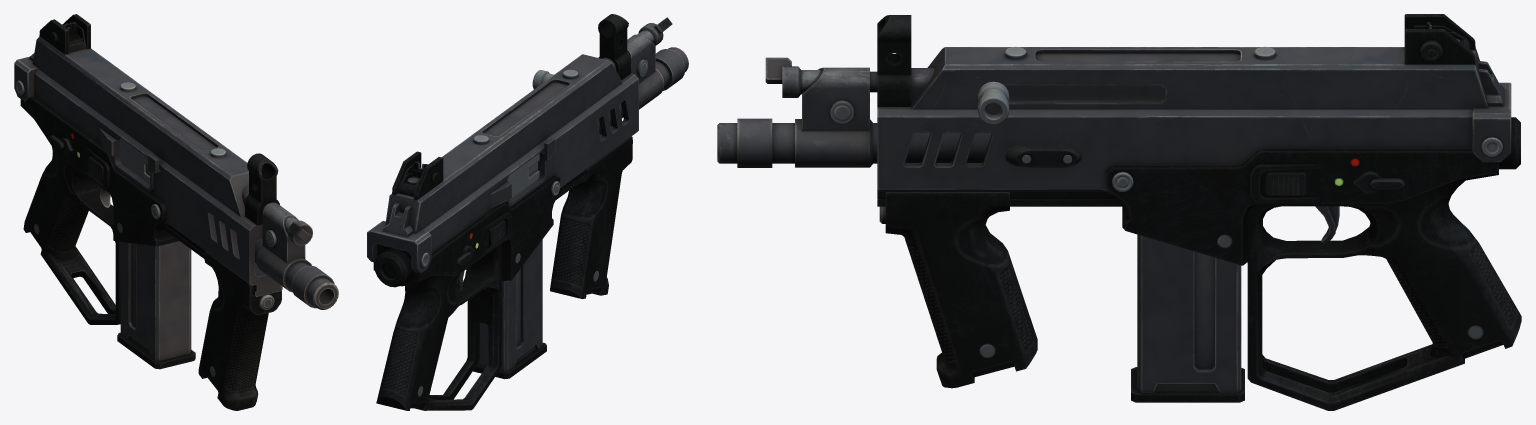
Rendered from heavySMG.fbx.
The picture shows the model from 3 angles, left to right: view 1: azimuth 30°, elevation 25°; view 2: azimuth 150°, elevation 25°; view 3: azimuth 270°, elevation 25°; orthographic projection. The views are drawn at different scales.
Parts seen in each view (by area): view 1: base, mag, foregrip, bolt; view 2: base, foregrip, mag, bolt; view 3: base, foregrip, mag, bolt.
Part boxes in pixels (left/top/right/bottom): base: left=14, top=14, right=338, bottom=324; mag: left=117, top=241, right=195, bottom=369; foregrip: left=198, top=251, right=281, bottom=410; bolt: left=120, top=138, right=149, bottom=184; base: left=367, top=14, right=688, bottom=410; foregrip: left=550, top=136, right=632, bottom=298; mag: left=473, top=239, right=546, bottom=379; bolt: left=507, top=70, right=553, bottom=199; base: left=717, top=14, right=1521, bottom=410; foregrip: left=879, top=192, right=1037, bottom=388; mag: left=1131, top=234, right=1244, bottom=402; bolt: left=978, top=81, right=1009, bottom=124.
Size of the model in its own units: 17.9 by 68.11 by 129.
